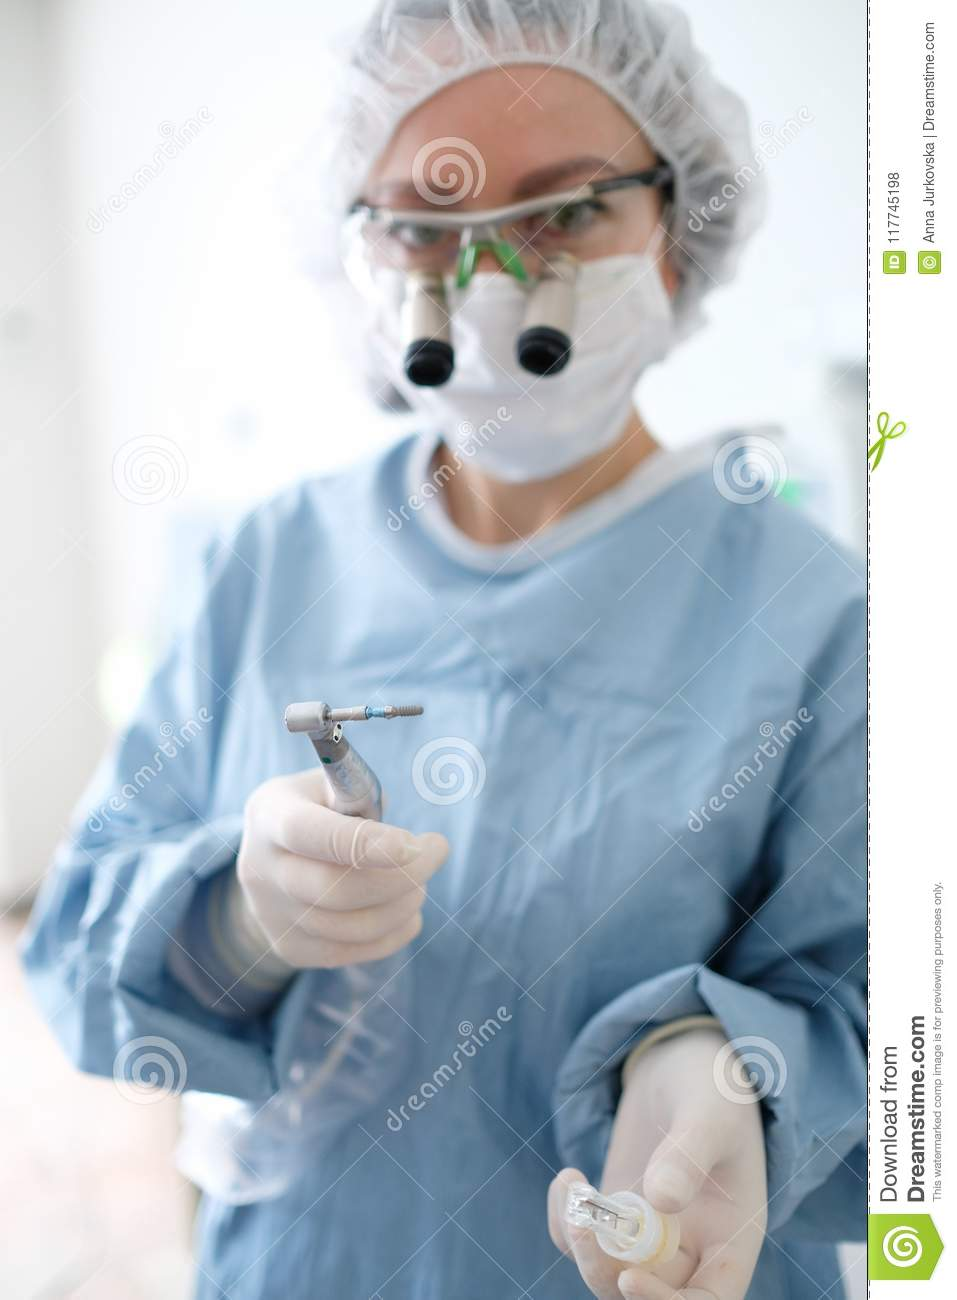mask: (374, 270, 676, 475)
